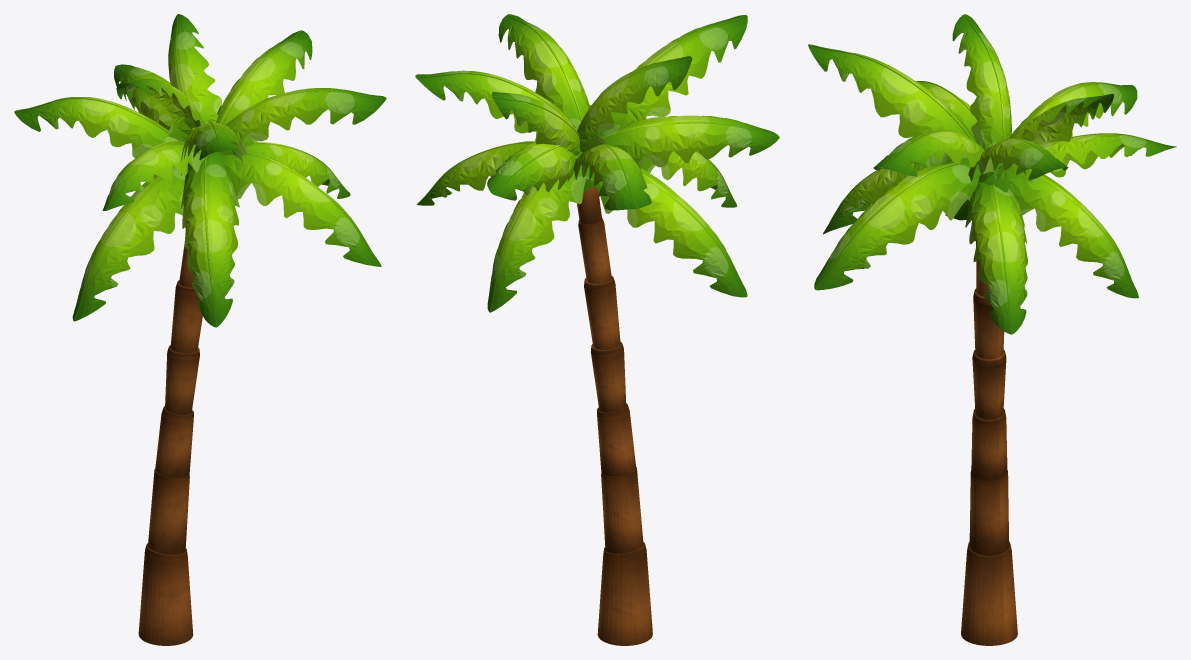
Rendered from cartoon_palm_tree.obj.
3 views of the same model, side by side, from view 1: azimuth 30°, elevation 25°; view 2: azimuth 150°, elevation 25°; view 3: azimuth 270°, elevation 25° (orthographic). The views are drawn at different scales.
Visible parts, largest first — view 1: palm_tree_Circle, Plane.024_Plane.026, Plane.008_Plane.010, Plane.006_Plane.008, Plane.015_Plane.017, Plane_Plane.002, Plane.003_Plane.005, Plane.023_Plane.025, Plane.019_Plane.021, Plane.016_Plane.018, Plane.012_Plane.014, Plane.005_Plane.007 (+1 smaller); view 2: palm_tree_Circle, Plane.019_Plane.021, Plane.008_Plane.010, Plane.011_Plane.013, Plane.015_Plane.017, Plane.005_Plane.007, Plane.016_Plane.018, Plane.020_Plane.022, Plane_Plane.002, Plane.003_Plane.005, Plane.023_Plane.025, Plane.012_Plane.014 (+1 smaller); view 3: palm_tree_Circle, Plane.006_Plane.008, Plane.012_Plane.014, Plane.005_Plane.007, Plane.011_Plane.013, Plane.016_Plane.018, Plane.020_Plane.022, Plane.015_Plane.017, Plane.023_Plane.025, Plane.003_Plane.005, Plane.024_Plane.026, Plane_Plane.002 (+1 smaller).
Part boxes in pixels (left/top/right/bottom): palm_tree_Circle: left=138, top=244, right=202, bottom=645; Plane.024_Plane.026: left=181, top=152, right=239, bottom=327; Plane.008_Plane.010: left=72, top=167, right=185, bottom=321; Plane.006_Plane.008: left=222, top=153, right=381, bottom=266; Plane.015_Plane.017: left=217, top=88, right=386, bottom=155; Plane_Plane.002: left=14, top=97, right=181, bottom=157; Plane.003_Plane.005: left=216, top=30, right=312, bottom=147; Plane.023_Plane.025: left=168, top=14, right=221, bottom=133; Plane.019_Plane.021: left=102, top=142, right=204, bottom=210; Plane.016_Plane.018: left=116, top=79, right=204, bottom=141; Plane.012_Plane.014: left=245, top=142, right=350, bottom=198; Plane.005_Plane.007: left=181, top=122, right=243, bottom=175; palm_tree_Circle: left=577, top=186, right=652, bottom=645; Plane.019_Plane.021: left=599, top=115, right=779, bottom=169; Plane.008_Plane.010: left=583, top=168, right=747, bottom=297; Plane.011_Plane.013: left=487, top=152, right=594, bottom=312; Plane.015_Plane.017: left=498, top=14, right=590, bottom=130; Plane.005_Plane.007: left=597, top=15, right=747, bottom=133; Plane.016_Plane.018: left=577, top=56, right=692, bottom=152; Plane.020_Plane.022: left=487, top=141, right=576, bottom=200; Plane_Plane.002: left=573, top=145, right=651, bottom=210; Plane.003_Plane.005: left=415, top=70, right=570, bottom=141; Plane.023_Plane.025: left=491, top=91, right=580, bottom=155; Plane.012_Plane.014: left=417, top=141, right=534, bottom=205; palm_tree_Circle: left=961, top=241, right=1017, bottom=645; Plane.006_Plane.008: left=814, top=162, right=981, bottom=290; Plane.012_Plane.014: left=965, top=174, right=1027, bottom=334; Plane.005_Plane.007: left=808, top=44, right=979, bottom=169; Plane.011_Plane.013: left=990, top=163, right=1138, bottom=298; Plane.016_Plane.018: left=952, top=14, right=1011, bottom=173; Plane.020_Plane.022: left=984, top=134, right=1176, bottom=192; Plane.015_Plane.017: left=873, top=131, right=998, bottom=179; Plane.023_Plane.025: left=978, top=94, right=1113, bottom=182; Plane.003_Plane.005: left=968, top=139, right=1068, bottom=181; Plane.024_Plane.026: left=823, top=157, right=940, bottom=234; Plane_Plane.002: left=1011, top=82, right=1137, bottom=136.
Size of the model in its own units: 7.2 by 13.1 by 7.39.
